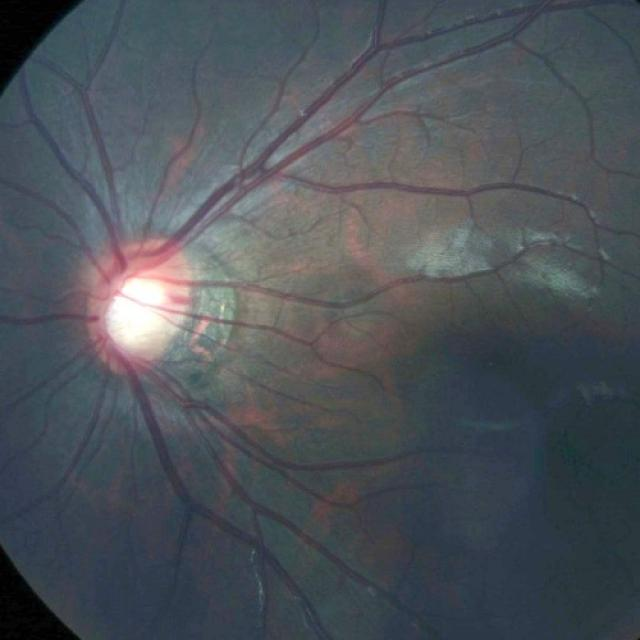OC: (106, 276, 166, 348)
OD: (87, 241, 190, 373)
